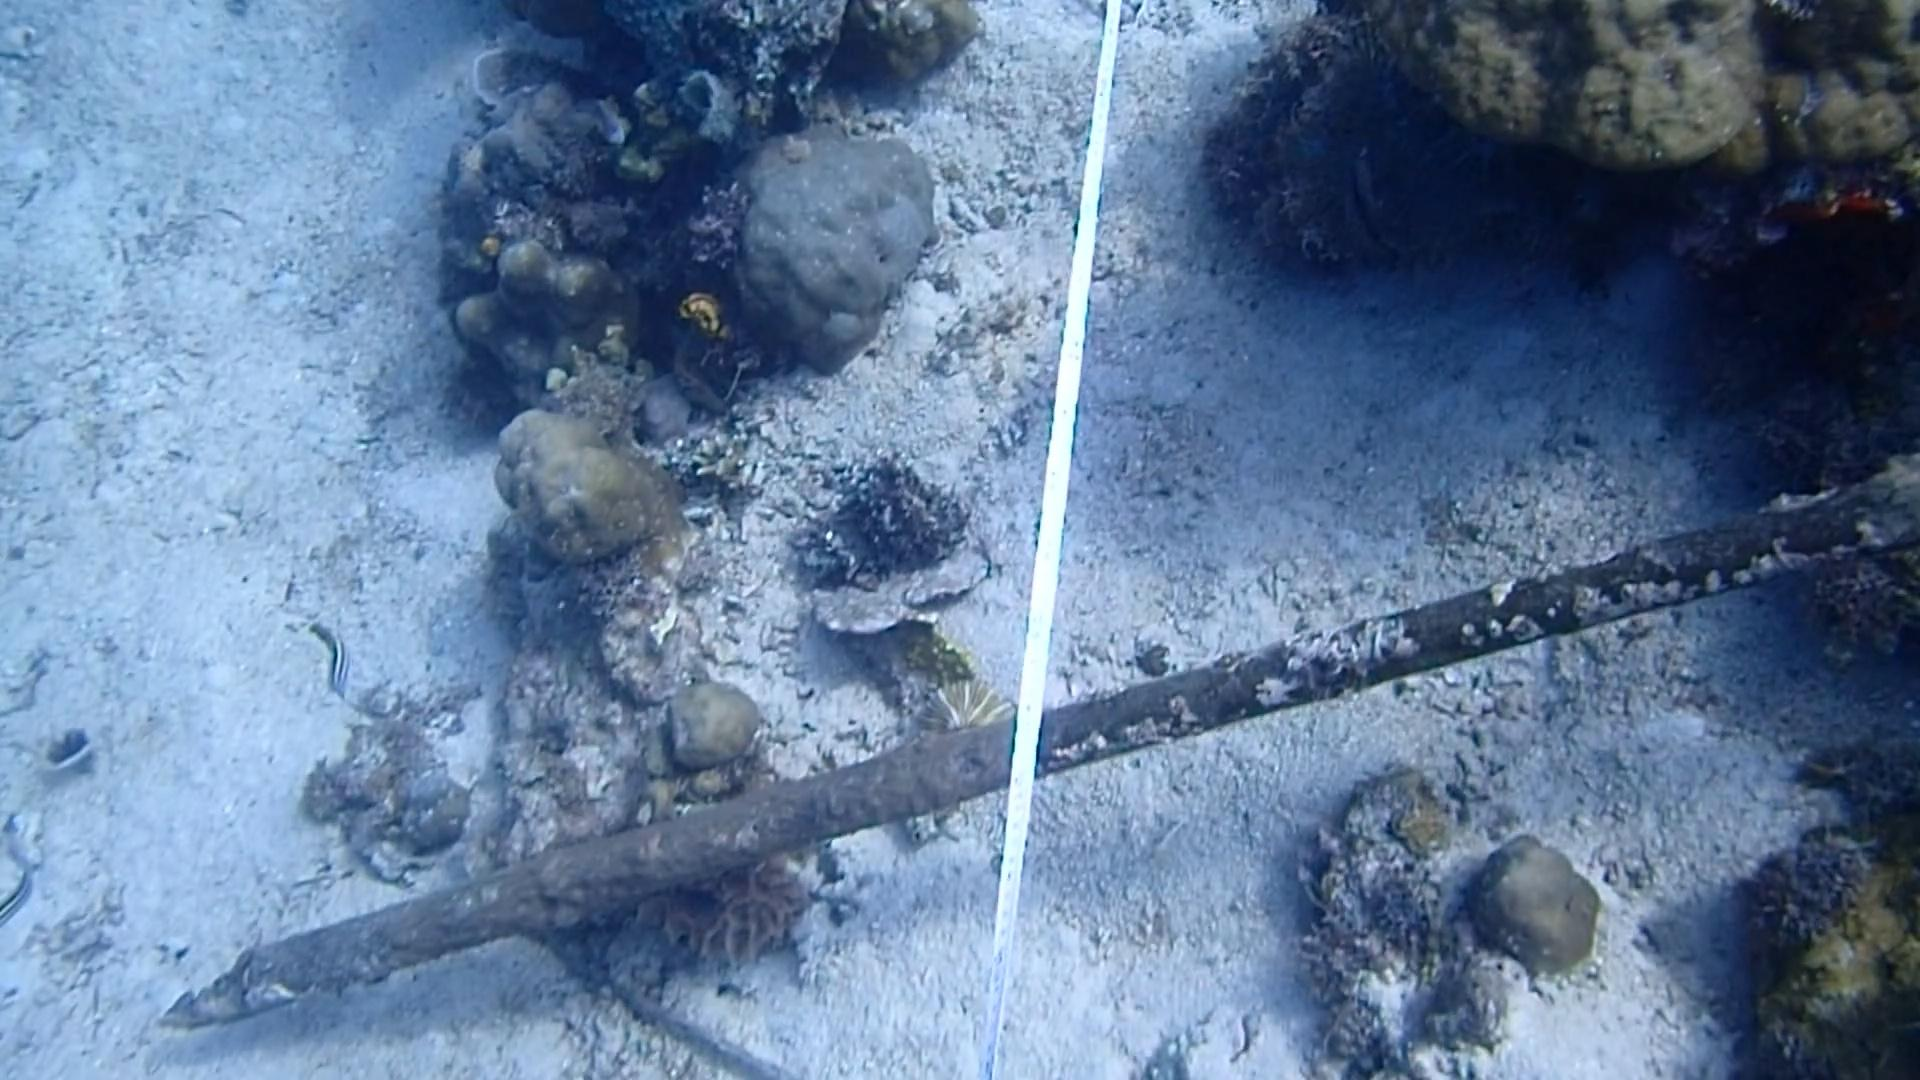Blue Nose Fish: (582, 90, 640, 152)
Dark Fish: (1335, 153, 1402, 256)
Striped Fish: (305, 617, 365, 705)
